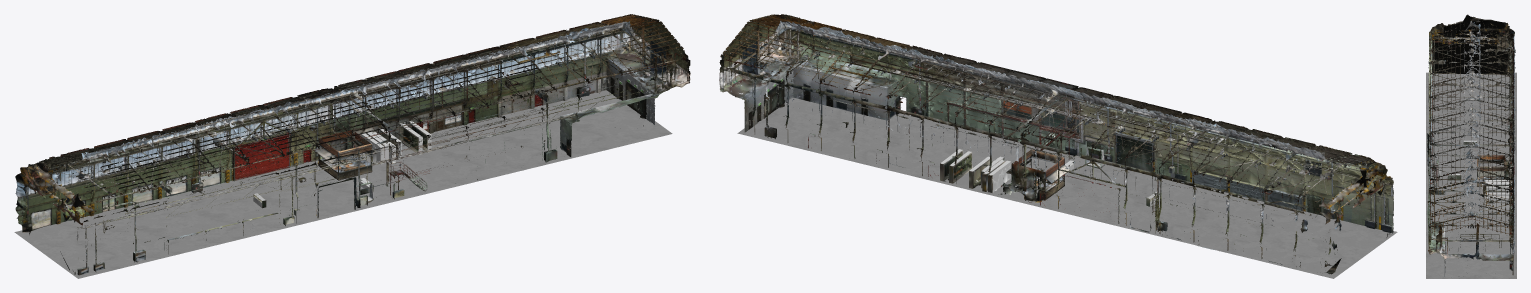
The model's file is Holanda.gltf.
3 views of the same model, side by side, from view 1: azimuth 30°, elevation 25°; view 2: azimuth 150°, elevation 25°; view 3: azimuth 270°, elevation 25° (orthographic). The views are drawn at different scales.
Parts seen in each view (by area): view 1: RDM_500k_TX_ROT:Mesh_1, RDM_500k_TX_ROT:Mesh_3, RDM_500k_TX_ROT:Mesh_2; view 2: RDM_500k_TX_ROT:Mesh_1, RDM_500k_TX_ROT:Mesh_3, RDM_500k_TX_ROT:Mesh_2; view 3: RDM_500k_TX_ROT:Mesh_3, RDM_500k_TX_ROT:Mesh_2, RDM_500k_TX_ROT:Mesh_1.
Part boxes in pixels (x1,y1,x2,y2): RDM_500k_TX_ROT:Mesh_1: (15, 14, 690, 274); RDM_500k_TX_ROT:Mesh_3: (14, 90, 672, 278); RDM_500k_TX_ROT:Mesh_2: (15, 14, 690, 275); RDM_500k_TX_ROT:Mesh_1: (719, 14, 1393, 274); RDM_500k_TX_ROT:Mesh_3: (737, 97, 1397, 278); RDM_500k_TX_ROT:Mesh_2: (719, 14, 1393, 274); RDM_500k_TX_ROT:Mesh_3: (1426, 72, 1516, 278); RDM_500k_TX_ROT:Mesh_2: (1427, 15, 1515, 274); RDM_500k_TX_ROT:Mesh_1: (1427, 14, 1515, 276).
Size of the model in its own units: 64.98 by 9.92 by 11.6.
3 materials, 3 textured.
